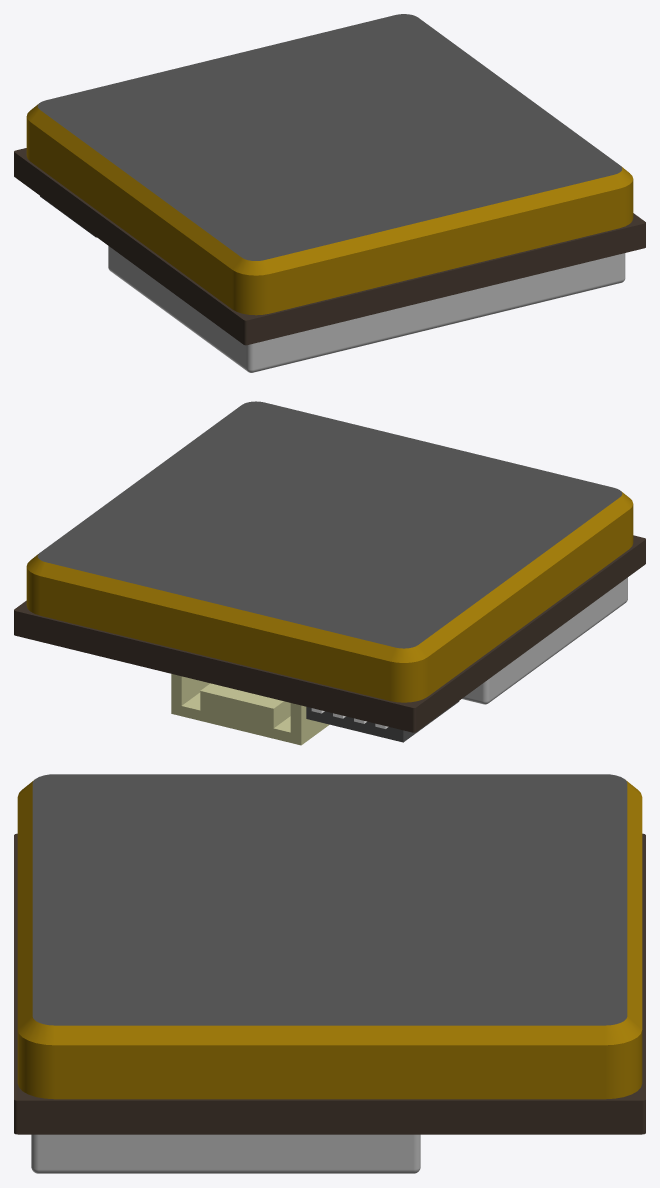
The model's file is model_foxeer_m10q_250.glb.
The picture shows the model from 3 angles, top to bottom: view 1: azimuth 30°, elevation 25°; view 2: azimuth 150°, elevation 25°; view 3: azimuth 270°, elevation 25°; orthographic projection. The views are drawn at different scales.
Visible parts, largest first — view 1: foxeer_m10q_250; view 2: foxeer_m10q_250; view 3: foxeer_m10q_250.
Part boxes in pixels (left/top/right/bottom): foxeer_m10q_250: left=14, top=14, right=645, bottom=372; foxeer_m10q_250: left=14, top=401, right=645, bottom=745; foxeer_m10q_250: left=14, top=774, right=645, bottom=1173.
Size of the model in its own units: 17 by 5.5 by 17.
